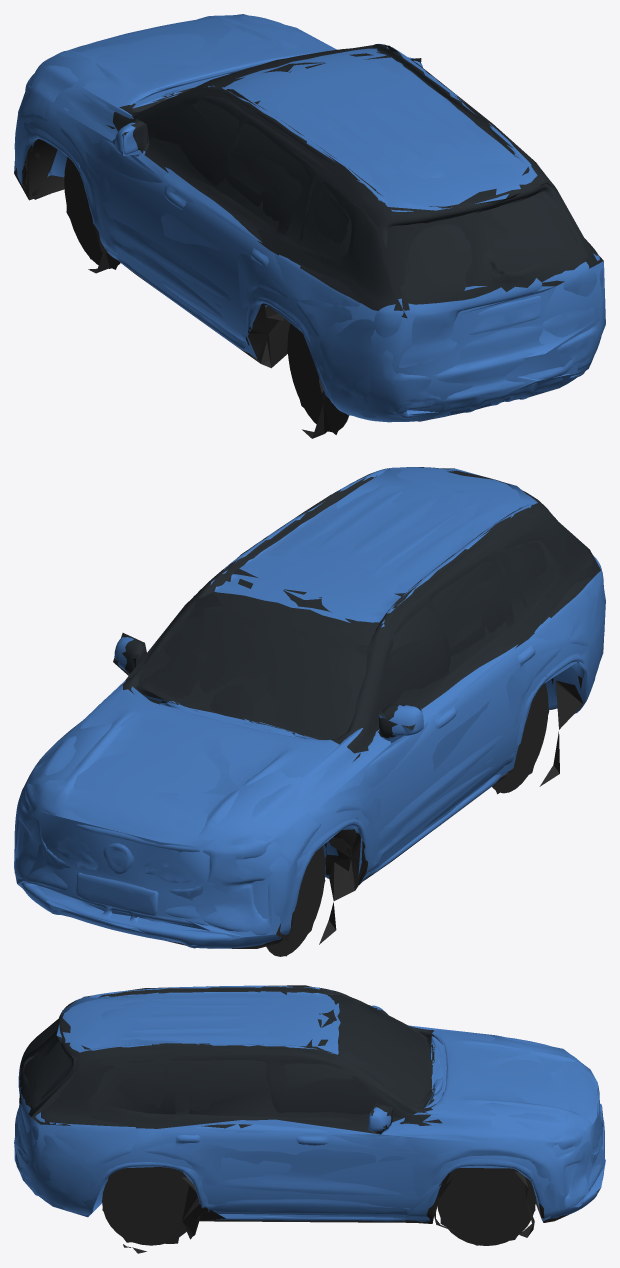
File: volvo-xc90.glb
3 renders of one model, top to bottom at view 1: azimuth 30°, elevation 25°; view 2: azimuth 150°, elevation 25°; view 3: azimuth 270°, elevation 25°, orthographic. The views are drawn at different scales.
Parts seen in each view (by area): view 1: body, far; view 2: body, far; view 3: body, far.
Part boxes in pixels (x1,y1,x2,y2): body: [14, 15, 604, 438]; far: [14, 14, 605, 438]; body: [14, 467, 605, 956]; far: [14, 468, 605, 956]; body: [14, 985, 604, 1253]; far: [14, 985, 605, 1245].
Bounding box in the file's own units: 2.17 × 1.77 × 4.86.
